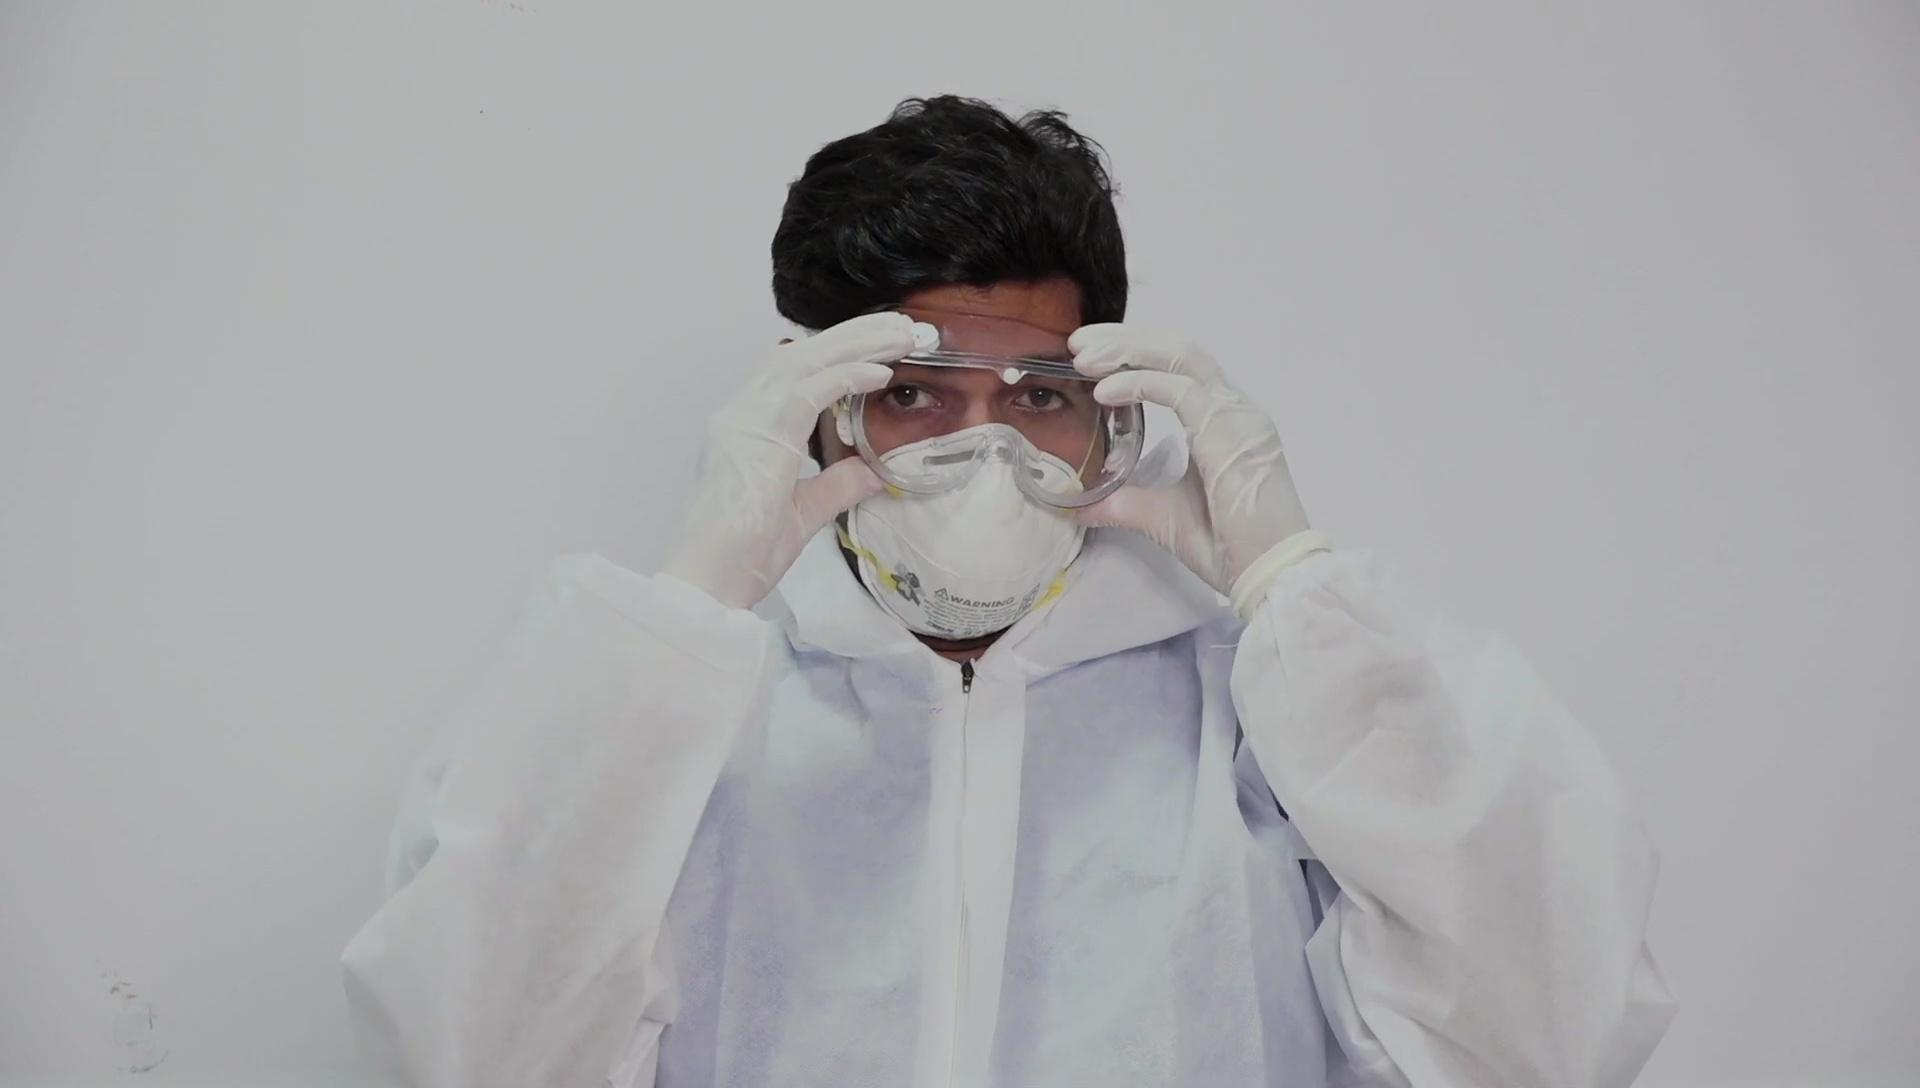Gloves: (669, 309, 916, 617), (1068, 320, 1308, 595)
Goggles: (837, 307, 1147, 516)
